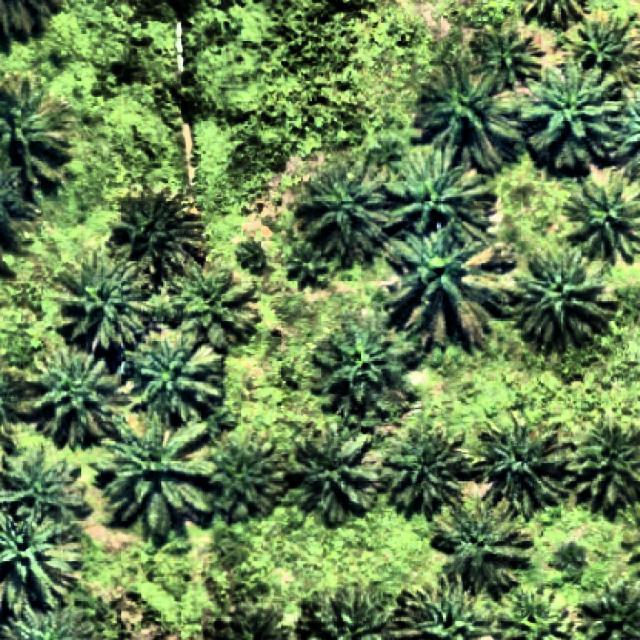Kelapa_Sawit: (379, 218, 518, 360), (94, 404, 214, 542), (412, 54, 528, 177), (309, 311, 423, 431), (469, 403, 578, 526), (526, 52, 631, 174), (380, 146, 498, 248), (516, 245, 618, 358), (433, 492, 532, 594), (28, 345, 124, 450), (289, 416, 377, 530), (55, 251, 154, 351), (299, 160, 393, 262), (380, 418, 469, 524), (132, 330, 228, 424), (172, 255, 260, 351), (212, 430, 290, 528), (111, 186, 198, 272), (469, 23, 543, 97), (288, 238, 328, 284)
